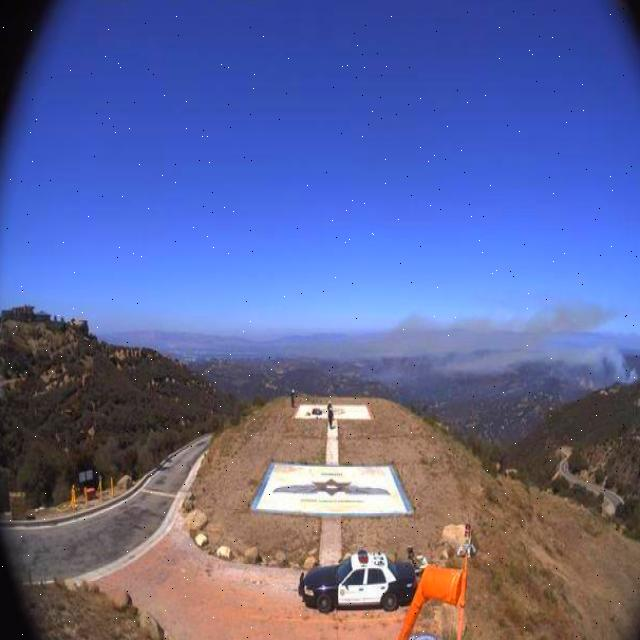smoke: (404, 294, 638, 386)
